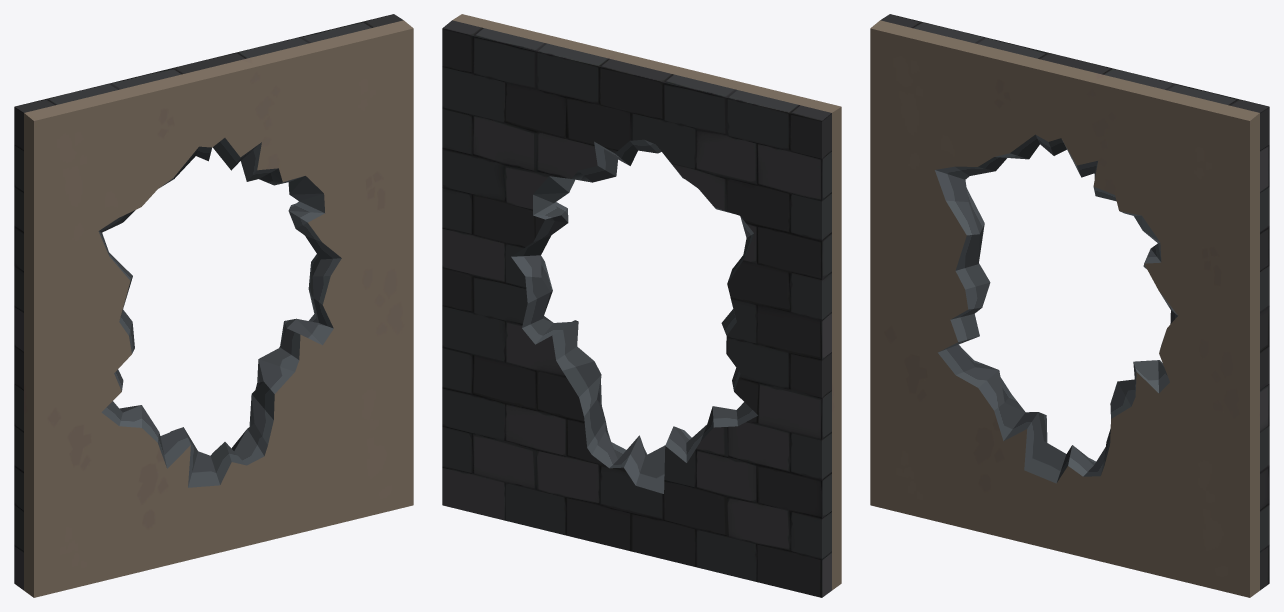
File: dark_SM_Bld_Wall_Ruin_07.gltf
3 views of the same model, side by side, from view 1: azimuth 30°, elevation 25°; view 2: azimuth 150°, elevation 25°; view 3: azimuth 330°, elevation 25° (orthographic).
Visible parts, largest first — view 1: SM_Bld_Wall_Ruin_07; view 2: SM_Bld_Wall_Ruin_07; view 3: SM_Bld_Wall_Ruin_07.
Boxes of the visible parts, left/top/right/bottom form: SM_Bld_Wall_Ruin_07: left=14, top=14, right=413, bottom=597; SM_Bld_Wall_Ruin_07: left=442, top=14, right=841, bottom=597; SM_Bld_Wall_Ruin_07: left=870, top=14, right=1269, bottom=597.
Bounding box in the file's own units: 2.5 × 3.01 × 0.225.
3 materials, 3 textured.
